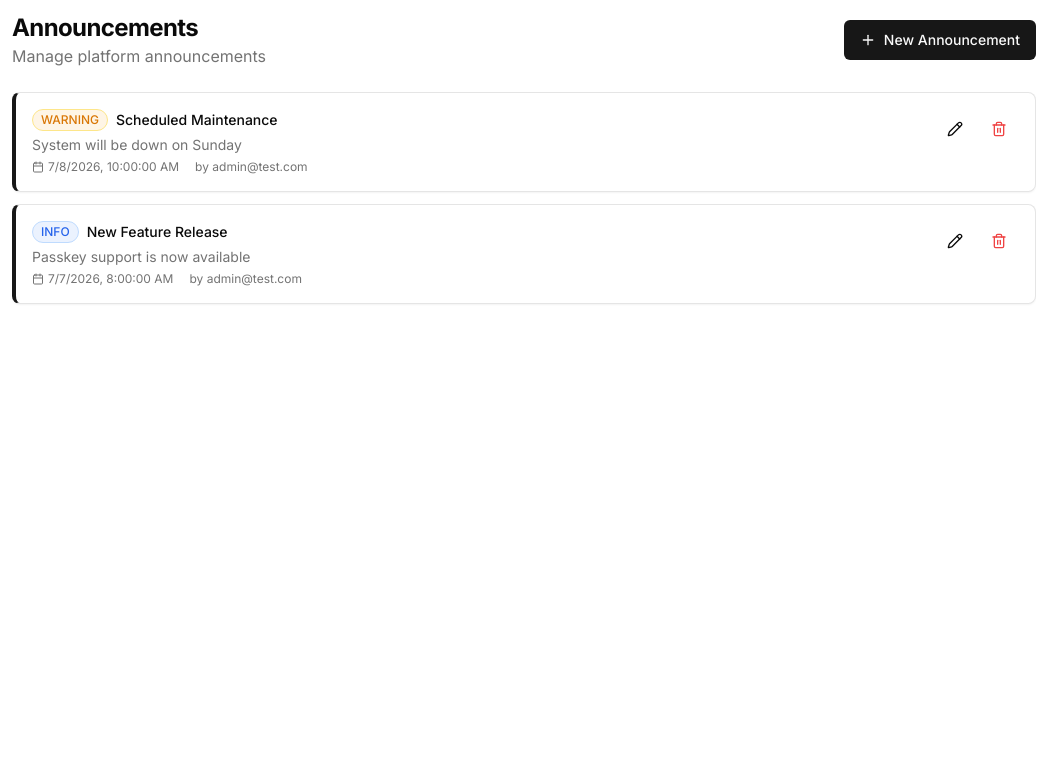
Test: AnnouncementsPage › opens create form when clicking New Announcement
This screenshot has width=1048, height=780.
Step 1. Click the button "New Announcement" → (940, 40), box [844,20,1036,60]
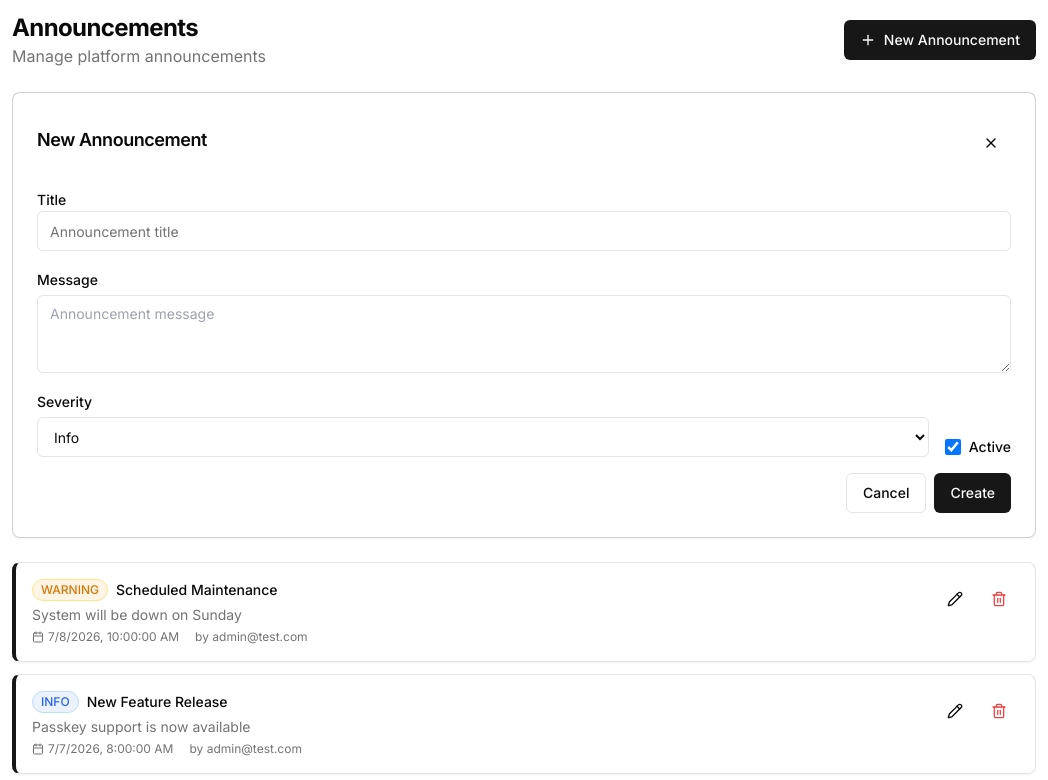
Expected: the button "Create" is shown, [934,473,1011,513]
